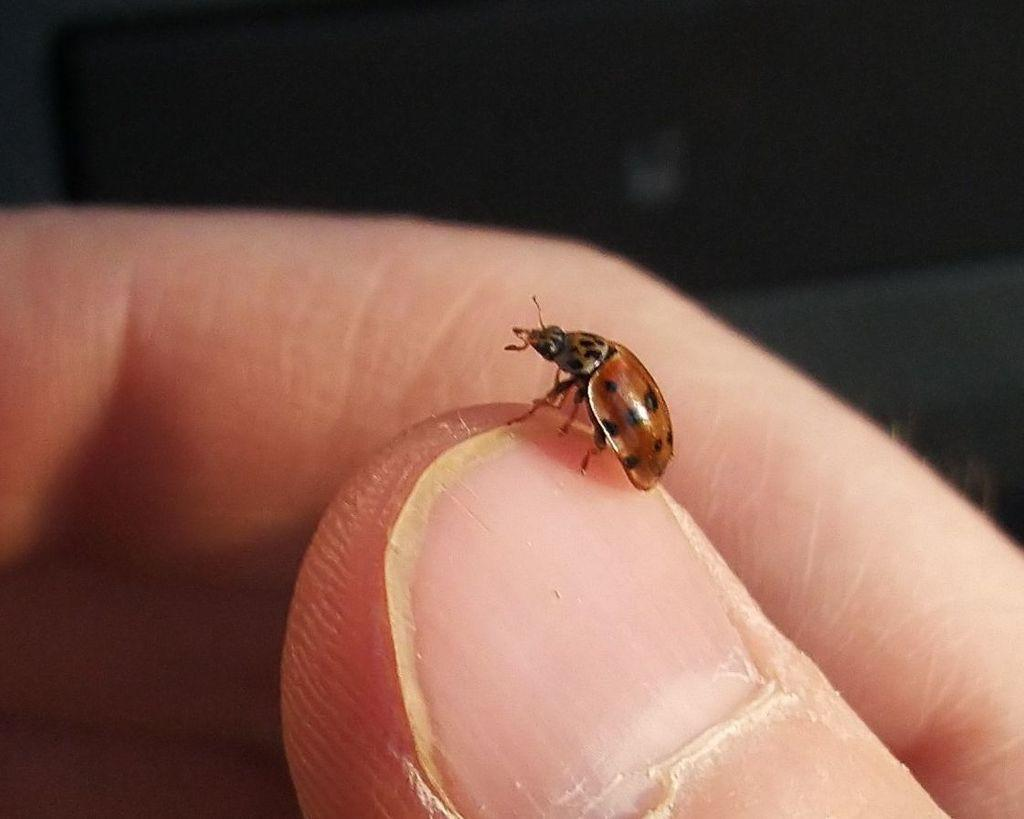ladybug: (501, 296, 679, 496)
